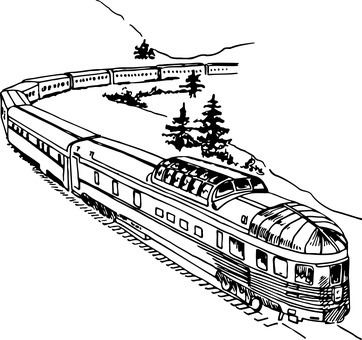train: (69, 127, 356, 334), (6, 100, 105, 199)
